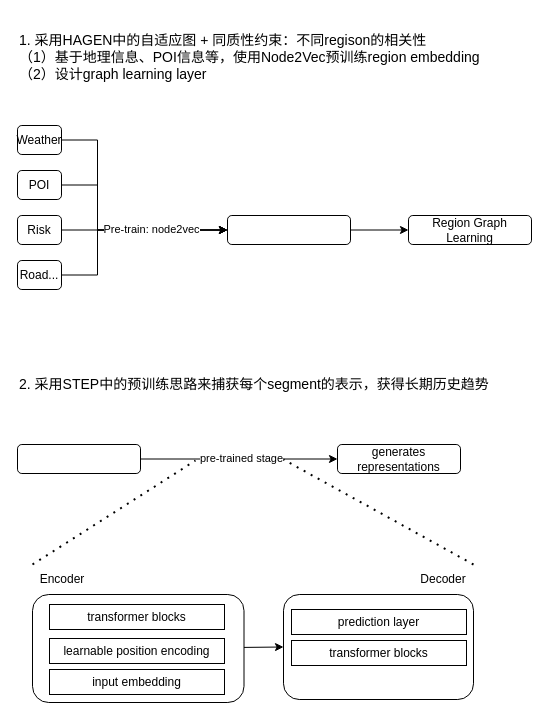
This 549x720 diagram has some shape labels left out. The centre of each missing label's shape, as x and y in pixels:
Original time series: point (78, 459)
Region Embedding: point (288, 229)
